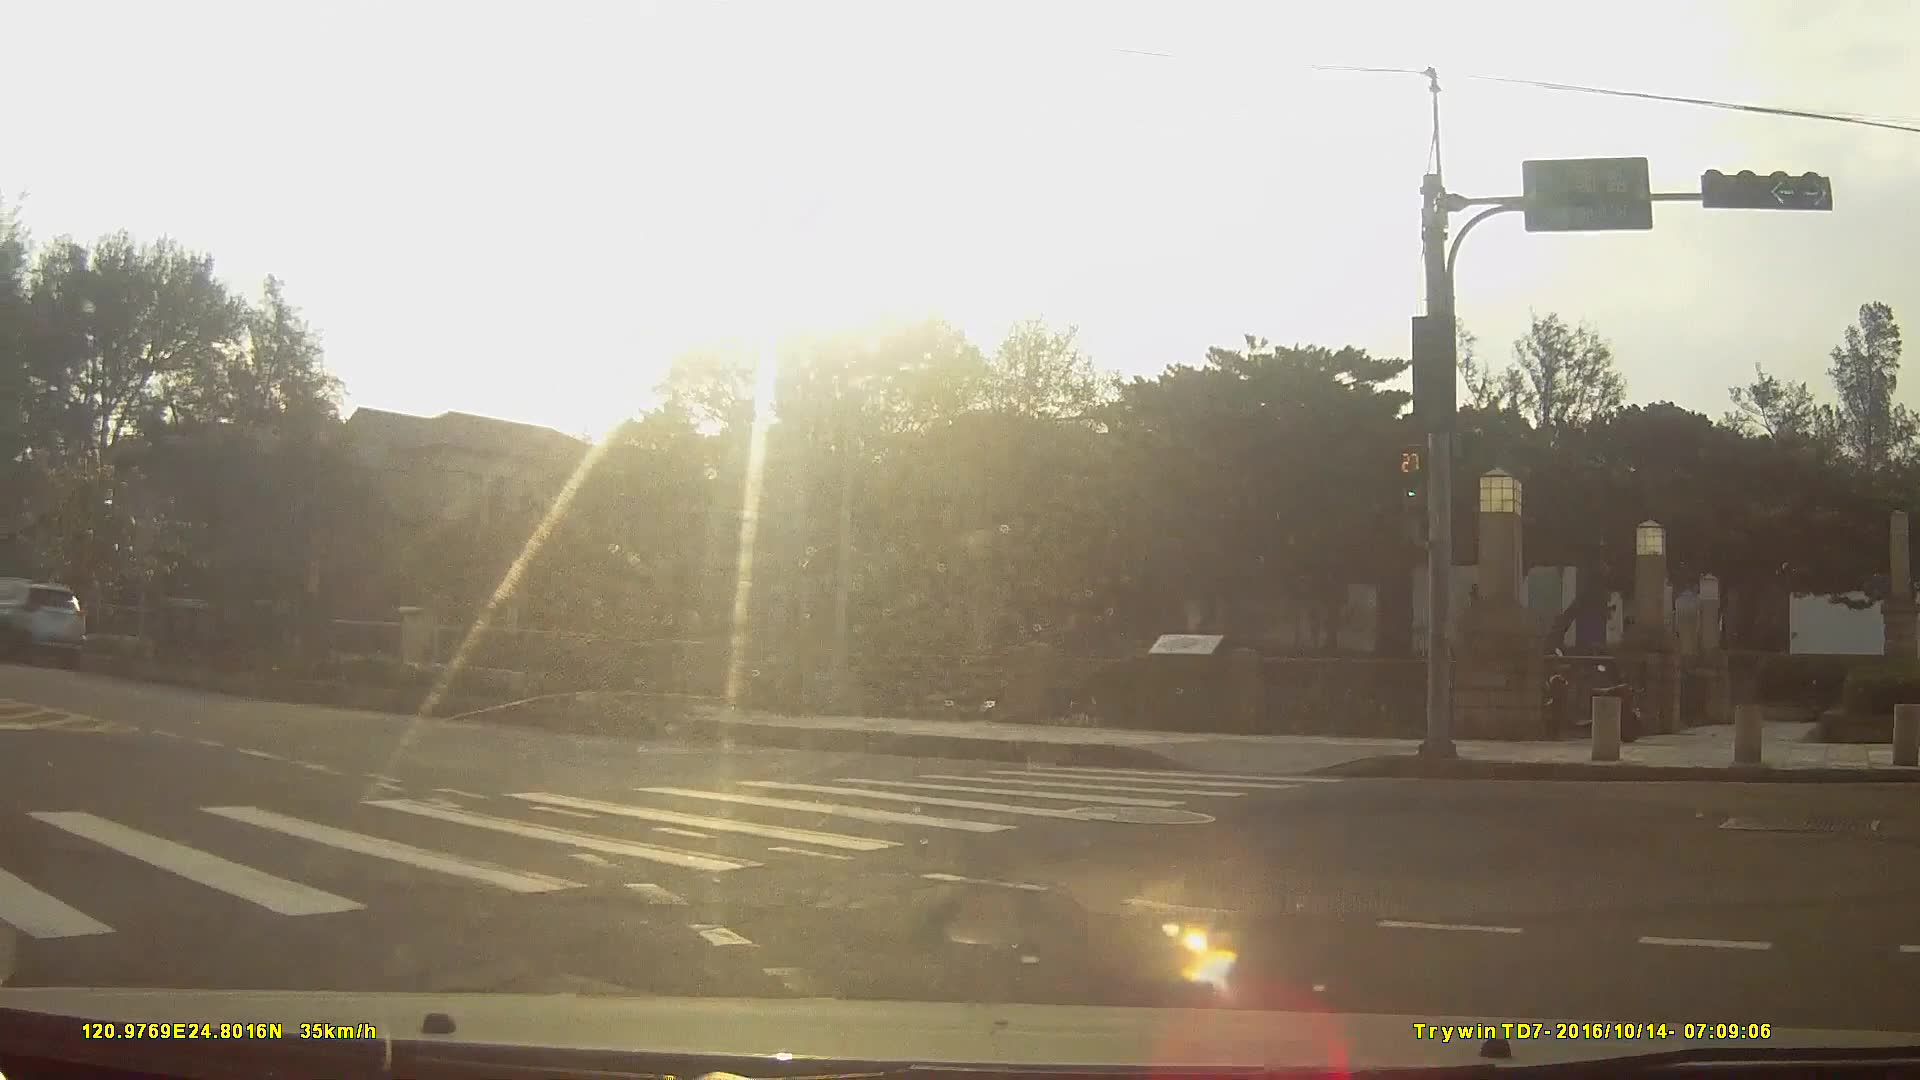vehicle: (0, 578, 86, 669)
